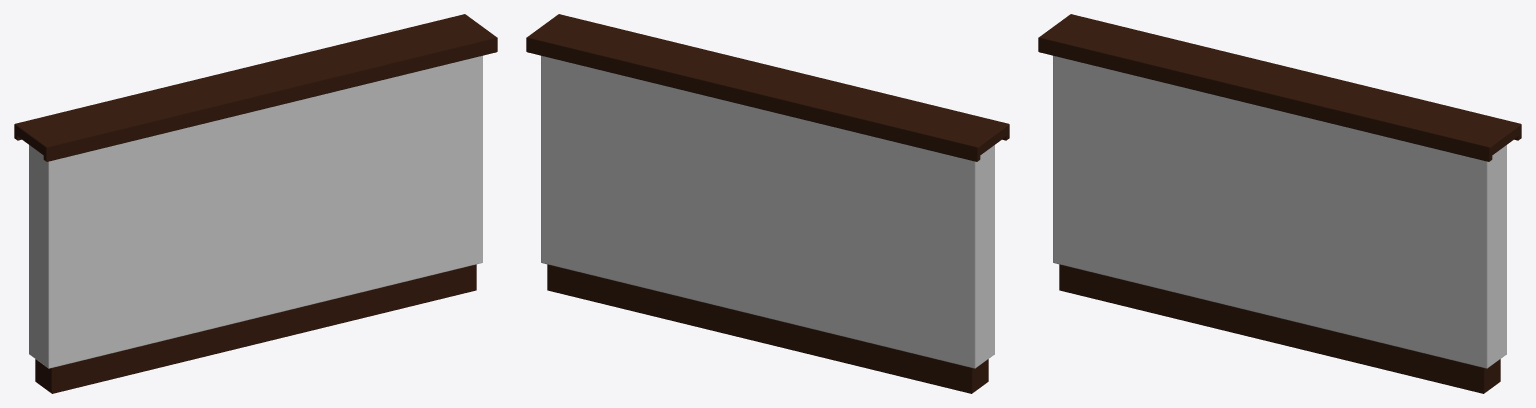
Rendered from Wall.fbx.
The picture shows the model from 3 angles, left to right: view 1: azimuth 30°, elevation 25°; view 2: azimuth 150°, elevation 25°; view 3: azimuth 330°, elevation 25°; orthographic projection.
Parts seen in each view (by area): view 1: Wall; view 2: Wall; view 3: Wall.
Part boxes in pixels (x1,y1,x2,y2): Wall: [14, 14, 497, 393]; Wall: [526, 14, 1009, 393]; Wall: [1038, 14, 1521, 393].
Bounding box in the file's own units: 482 × 261 × 59.32.
